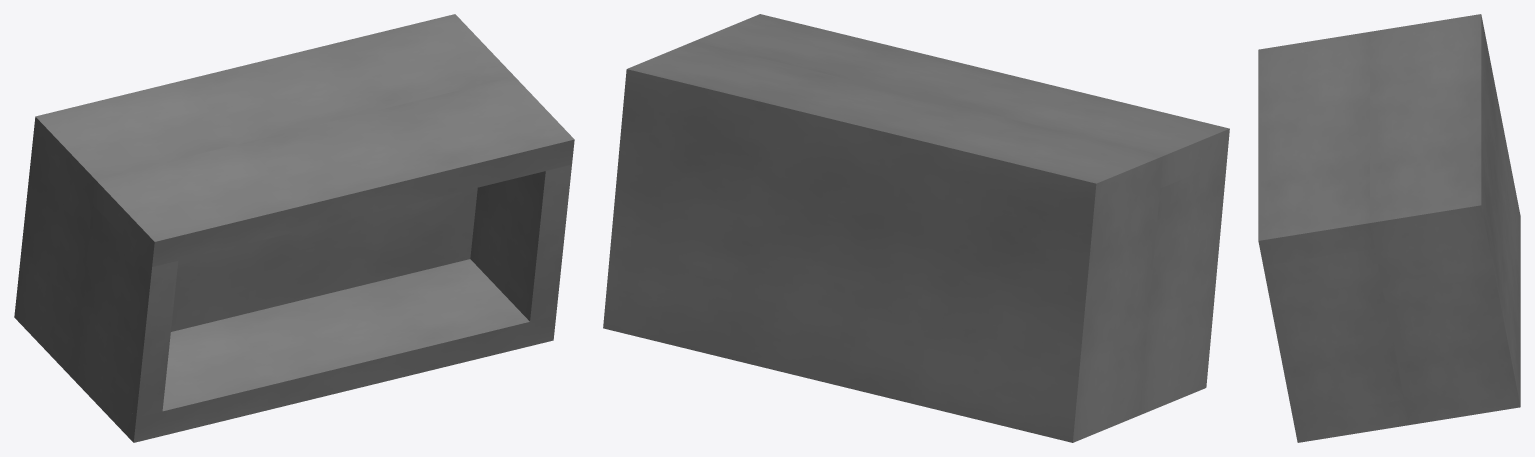
File: dc_metro_arch_a5.obj
The picture shows the model from 3 angles, left to right: view 1: azimuth 30°, elevation 25°; view 2: azimuth 150°, elevation 25°; view 3: azimuth 270°, elevation 25°; orthographic projection. The views are drawn at different scales.
Parts seen in each view (by area): view 1: part5; view 2: part5; view 3: part5.
Part boxes in pixels (box(x1,y1,x2,y2)): part5: box(14, 14, 574, 442); part5: box(603, 14, 1229, 442); part5: box(1258, 14, 1520, 442).
Size of the model in its own units: 2 by 1.16 by 1.16.
Materials: 1 (1 with a texture image).
